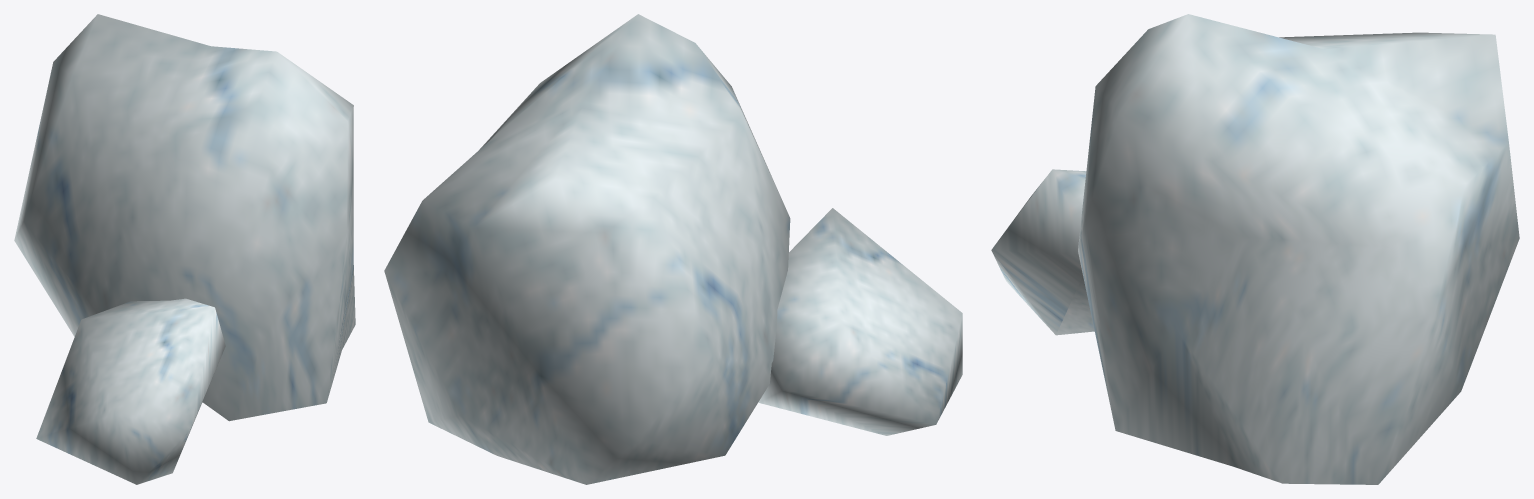
3 views of the same model, side by side, from view 1: azimuth 30°, elevation 25°; view 2: azimuth 150°, elevation 25°; view 3: azimuth 270°, elevation 25° (orthographic). The views are drawn at different scales.
Parts seen in each view (by area): view 1: a70; view 2: a70; view 3: a70.
Part boxes in pixels (bbox=[...]): a70: bbox=[14, 14, 355, 484]; a70: bbox=[384, 14, 962, 484]; a70: bbox=[991, 14, 1519, 484].
Bounding box in the file's own units: 569 × 505 × 566.
